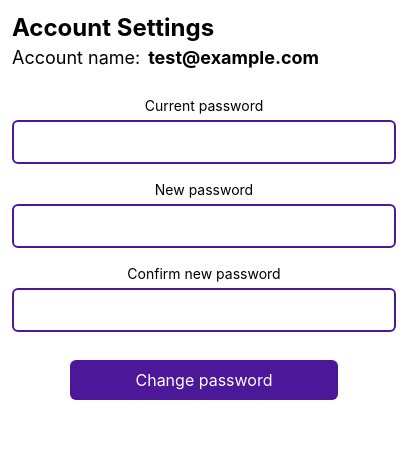
SettingsPage password change › updates the current user's password and schedules logout on success
Type "oldpassword" into the password field labelled "Current password" at (204, 142), box 12,120 -> 396,164
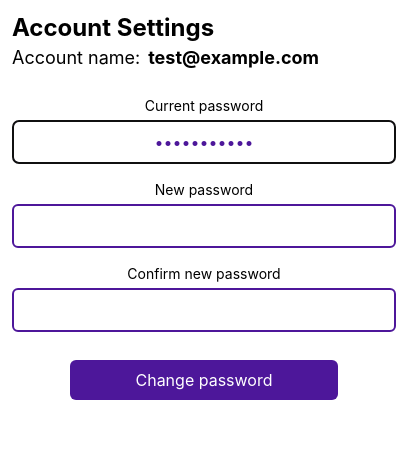
Type "newpassword" into the password field labelled "New password" at (204, 226), box 12,204 -> 396,248
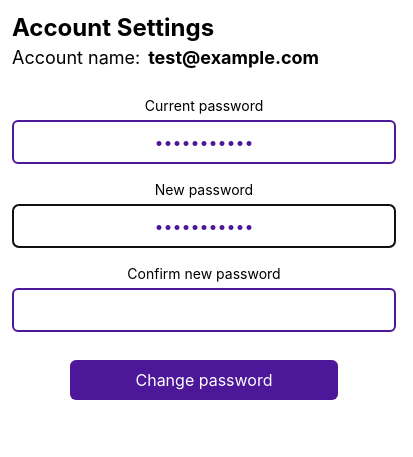
Type "newpassword" into the password field labelled "Confirm new password" at (204, 310), box 12,288 -> 396,332
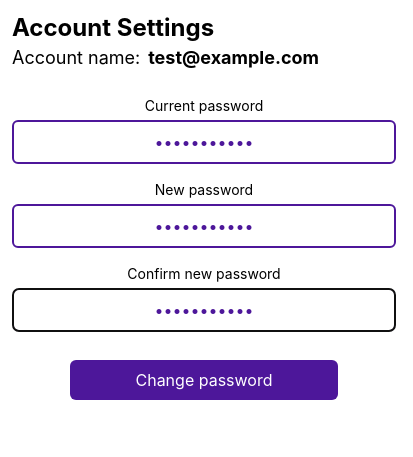
Click the button "Change password" at (204, 380), box 70,360 -> 338,400
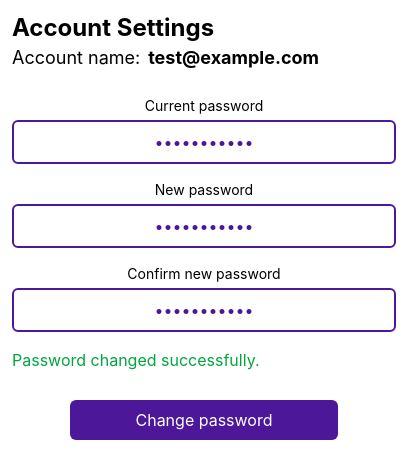
Expected: the heading "Account name:" is shown, 12,44 -> 140,72
Expected: the message shows "Password changed successfully", 12,350 -> 260,370
